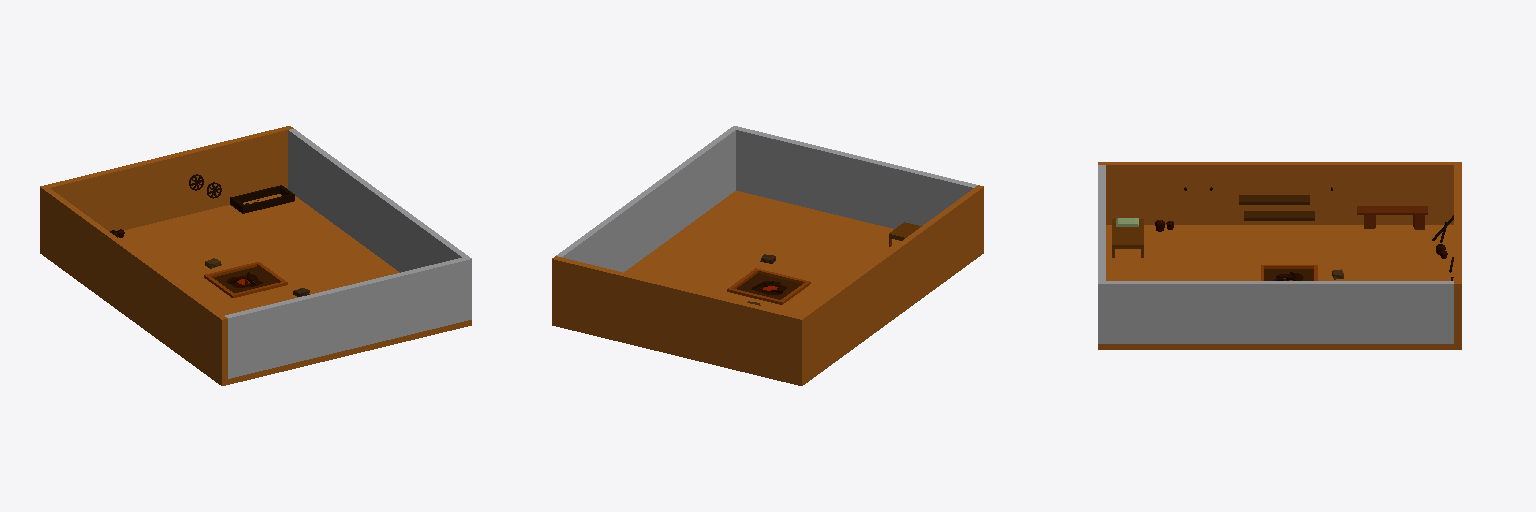
File: MosesHouse.obj
The picture shows the model from 3 angles: view 1: azimuth 30°, elevation 25°; view 2: azimuth 150°, elevation 25°; view 3: azimuth 270°, elevation 25°; orthographic projection.
Parts seen in each view (by area): view 1: Cube, Plane, Plane.001; view 2: Cube, Plane; view 3: Cube, Cube.004_Cube.002, Plane, Cube.003, Cube.005_Cube.019, Cube.006_Cube.004.
Boxes of the visible parts, <box> form: Cube: <box>40,126,471,385</box>; Plane: <box>204,262,287,297</box>; Plane.001: <box>230,185,294,213</box>; Cube: <box>552,126,983,385</box>; Plane: <box>727,268,810,304</box>; Cube: <box>1098,162,1461,349</box>; Cube.004_Cube.002: <box>1112,218,1143,257</box>; Plane: <box>1261,265,1317,280</box>; Cube.003: <box>1239,195,1309,204</box>; Cube.005_Cube.019: <box>1244,211,1314,220</box>; Cube.006_Cube.004: <box>1357,206,1427,214</box>.
Bounding box in the file's own units: 57.86 × 14.69 × 72.97.